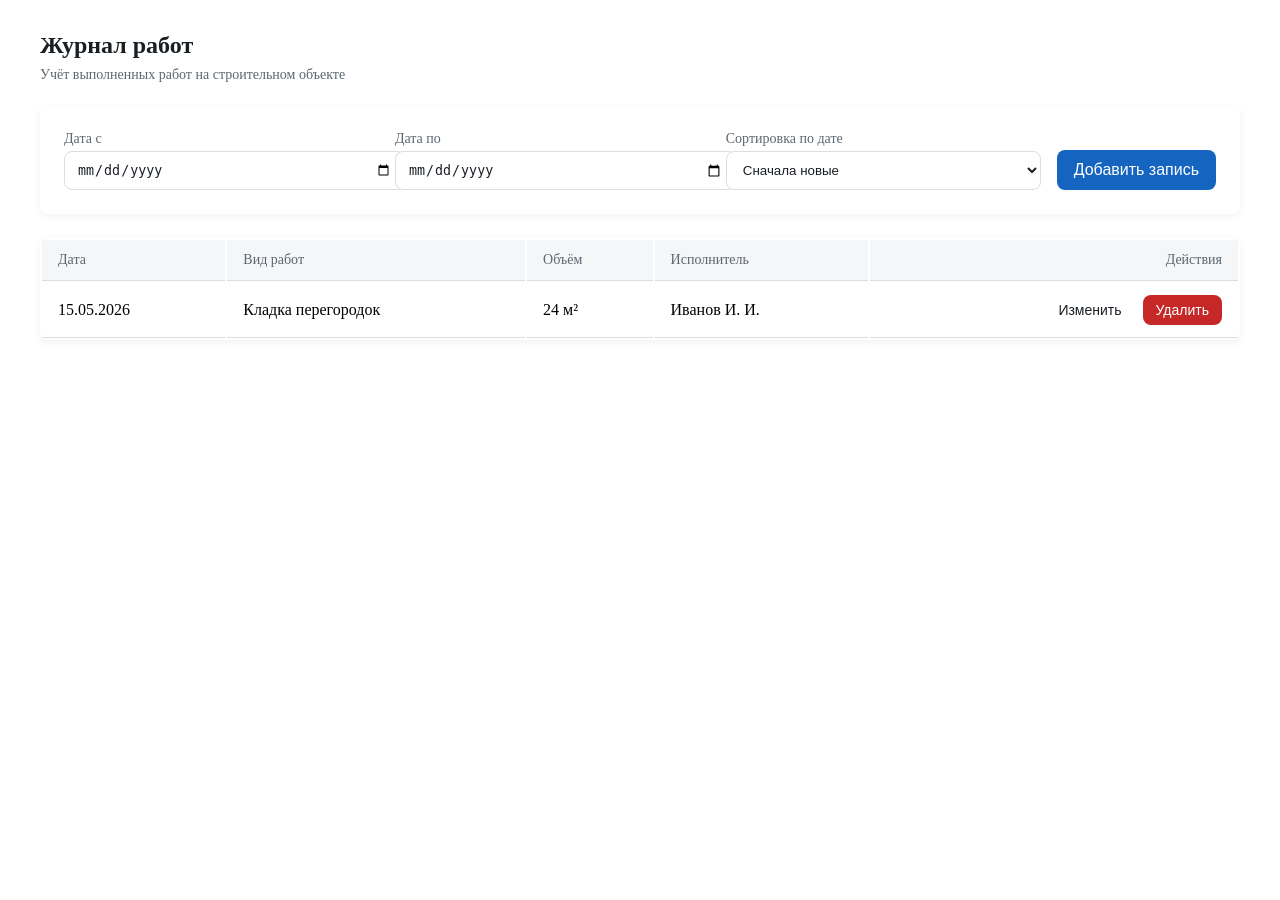
Scenario: WorkLogPage › opens create entry modal
Click the button "Добавить запись": (1136, 170) [1057, 150, 1216, 190]
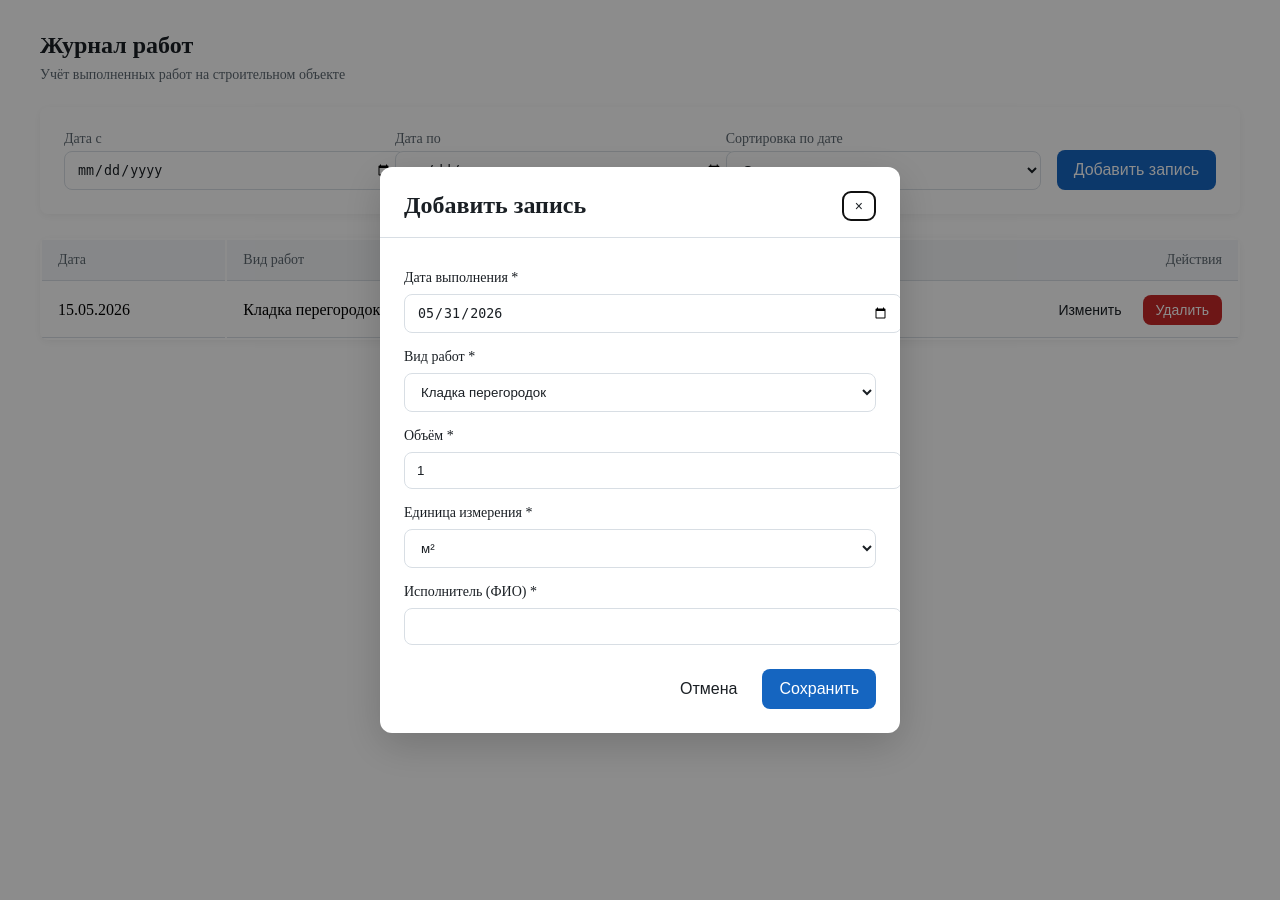
Check: the heading "Добавить запись" is shown, box [404, 192, 586, 219]
